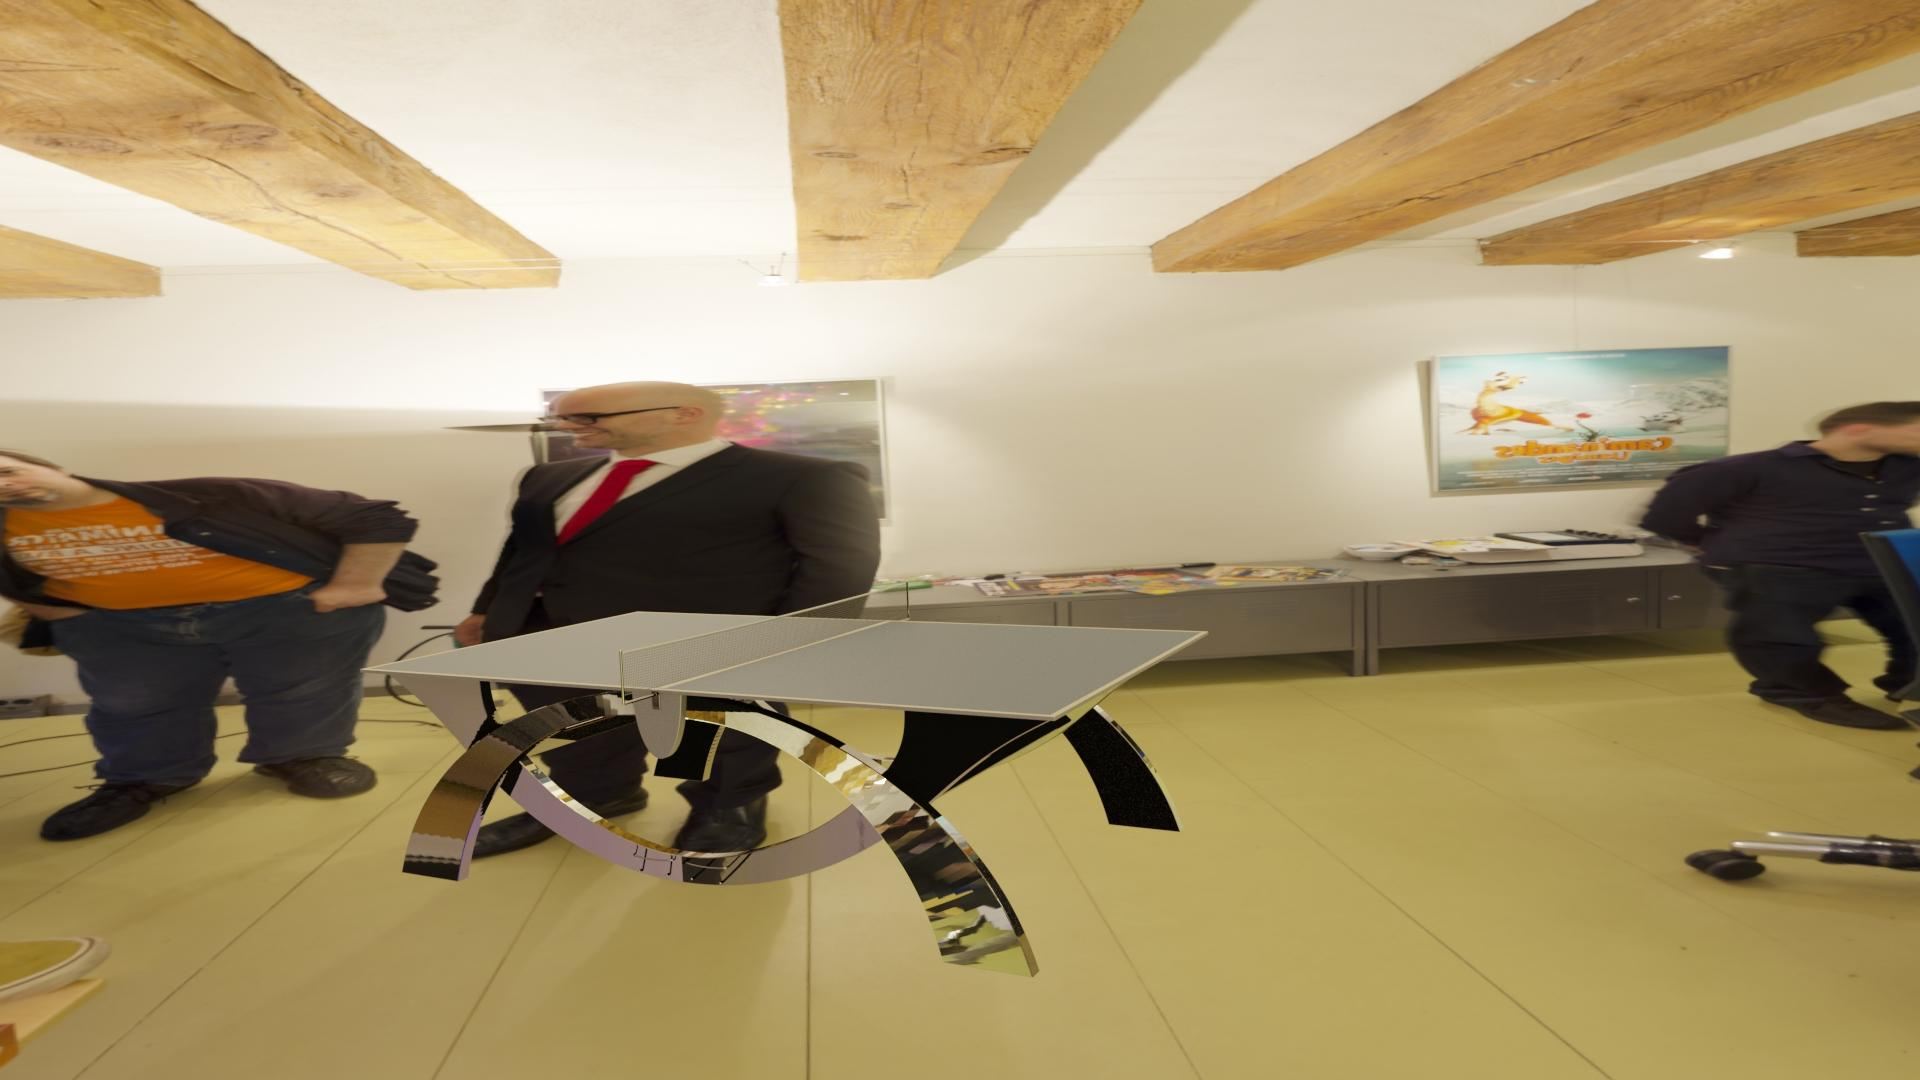table: (368, 612, 1201, 715)
